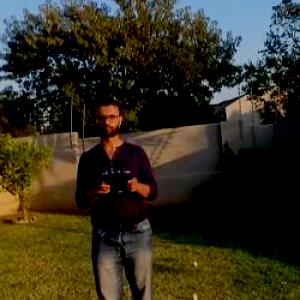follow: (70, 86, 163, 299)
